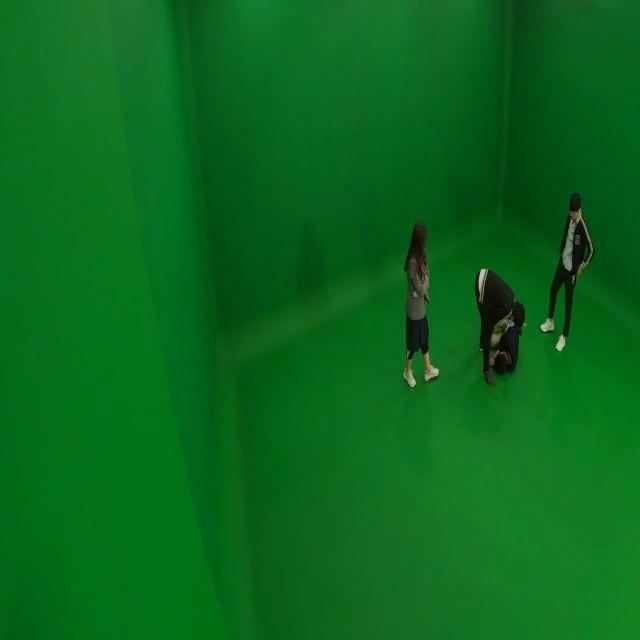fight: (472, 265, 527, 381)
non-fight: (540, 191, 595, 352), (401, 223, 438, 387)
